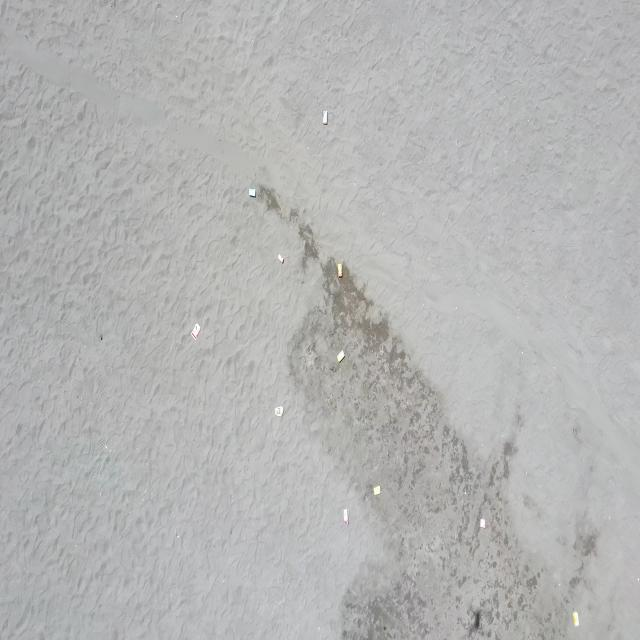Garbage: (191, 323, 199, 339), (572, 611, 579, 626), (372, 484, 380, 495), (336, 352, 344, 362), (273, 407, 283, 415), (336, 263, 342, 276), (276, 253, 283, 263), (343, 507, 347, 524), (322, 111, 327, 123), (248, 188, 255, 196), (480, 517, 484, 527)
